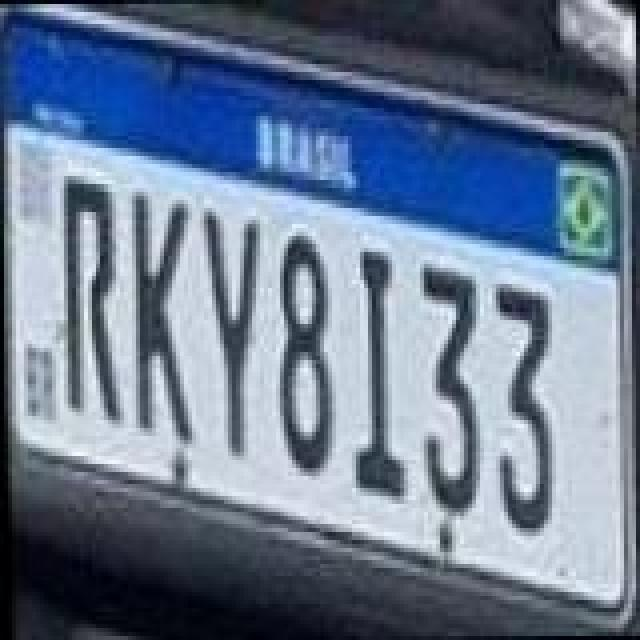3: (490, 274, 562, 534), (414, 260, 486, 512)
8: (268, 226, 340, 478)
I: (344, 246, 408, 506)
K: (126, 184, 202, 444)
R: (58, 170, 126, 430)
Y: (200, 204, 272, 456)
